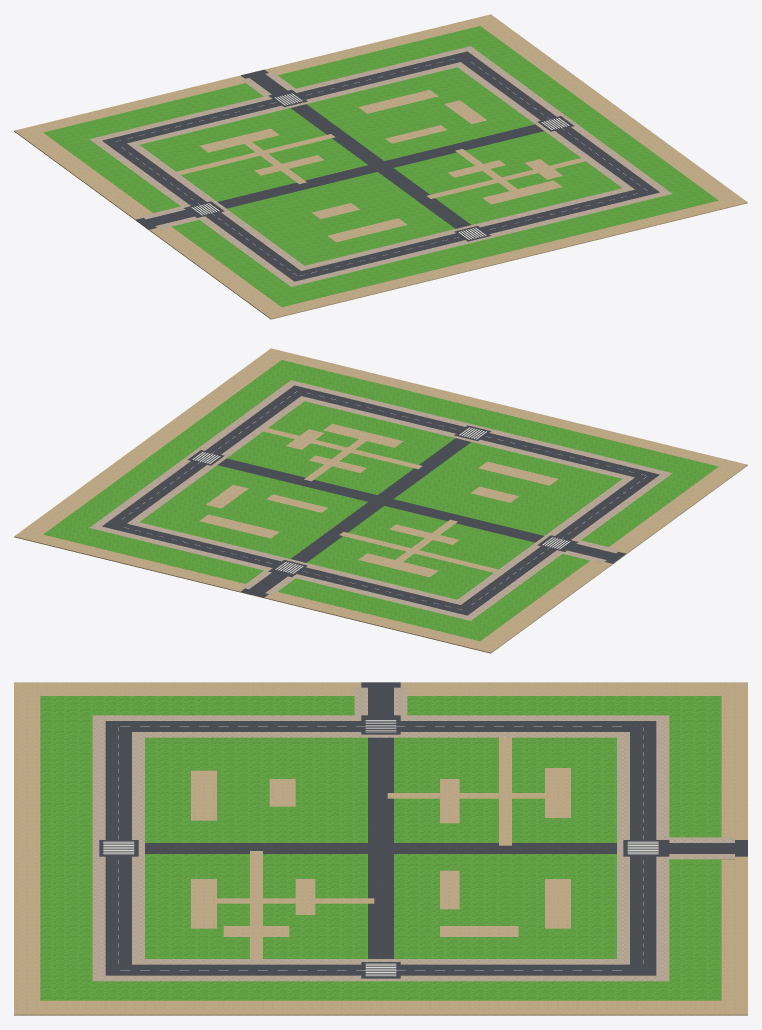
Rendered from berezki_ground.gltf.
The picture shows the model from 3 angles, top to bottom: view 1: azimuth 30°, elevation 25°; view 2: azimuth 150°, elevation 25°; view 3: azimuth 270°, elevation 25°; orthographic projection. The views are drawn at different scales.
Parts seen in each view (by area): view 1: ground_g-col, base_slab-col, ground_a-col, ground_s-col, ground_p-col, ground_z-col, road_marks; view 2: ground_g-col, base_slab-col, ground_a-col, ground_s-col, ground_p-col, ground_z-col, road_marks; view 3: ground_g-col, base_slab-col, ground_a-col, ground_s-col, ground_p-col, ground_z-col, road_marks.
Boxes of the visible parts, bbox=[...] form: ground_g-col: bbox=[43, 26, 718, 306]; base_slab-col: bbox=[14, 14, 747, 319]; ground_a-col: bbox=[102, 51, 659, 281]; ground_s-col: bbox=[89, 46, 672, 286]; ground_p-col: bbox=[176, 89, 585, 242]; ground_z-col: bbox=[187, 91, 573, 241]; road_marks: bbox=[116, 59, 646, 275]; ground_g-col: bbox=[43, 360, 718, 640]; base_slab-col: bbox=[14, 348, 747, 653]; ground_a-col: bbox=[102, 385, 659, 615]; ground_s-col: bbox=[89, 380, 672, 620]; ground_p-col: bbox=[199, 423, 558, 577]; ground_z-col: bbox=[188, 425, 574, 575]; road_marks: bbox=[122, 391, 646, 609]; ground_g-col: bbox=[40, 696, 721, 1000]; base_slab-col: bbox=[14, 682, 747, 1015]; ground_a-col: bbox=[105, 682, 747, 975]; ground_s-col: bbox=[92, 687, 734, 981]; ground_p-col: bbox=[191, 737, 570, 958]; ground_z-col: bbox=[99, 718, 662, 978]; road_marks: bbox=[103, 720, 658, 976].
Size of what is drawn, in the model's own units: 240 by 0.432 by 224.
5 materials, 4 textured.
